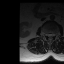CCS_normal: (49, 32, 51, 39)
LFS_normal: (53, 32, 55, 38)
LLS_normal: (51, 32, 53, 38)
RFS_normal: (45, 32, 47, 37)
RLS_normal: (47, 32, 49, 38)
